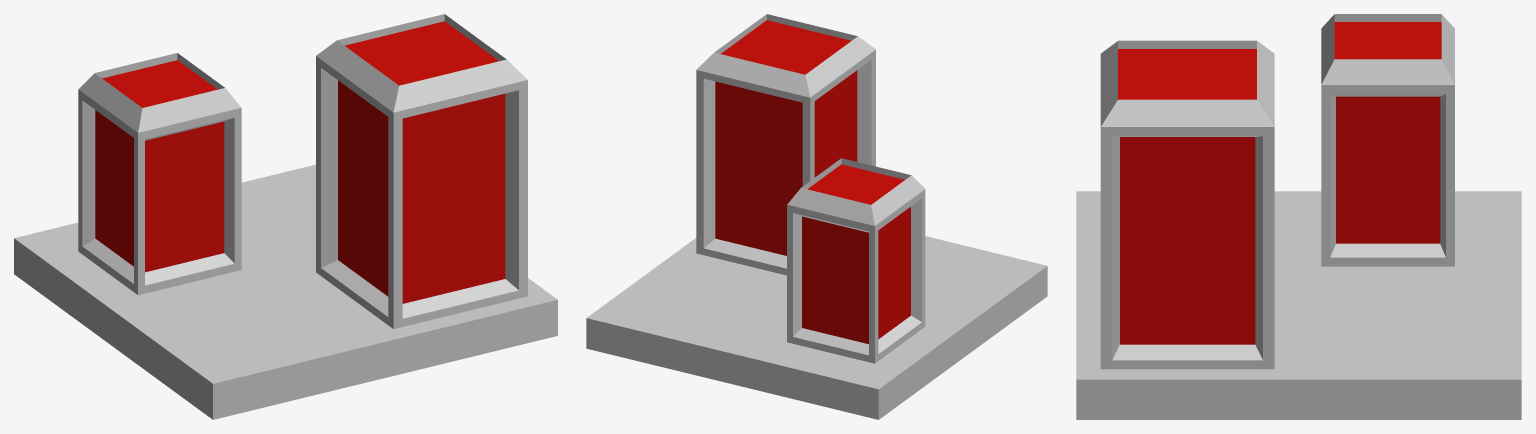
Rendered from LampDuo.fbx.
3 renders of one model, left to right at view 1: azimuth 30°, elevation 25°; view 2: azimuth 150°, elevation 25°; view 3: azimuth 270°, elevation 25°, orthographic. The views are drawn at different scales.
Visible parts, largest first — view 1: LampDuo; view 2: LampDuo; view 3: LampDuo.
Boxes of the visible parts, left/top/right/bottom form: LampDuo: left=14, top=14, right=557, bottom=419; LampDuo: left=586, top=14, right=1047, bottom=419; LampDuo: left=1076, top=14, right=1521, bottom=419.
Size of the model in its own units: 200 by 150 by 200.
